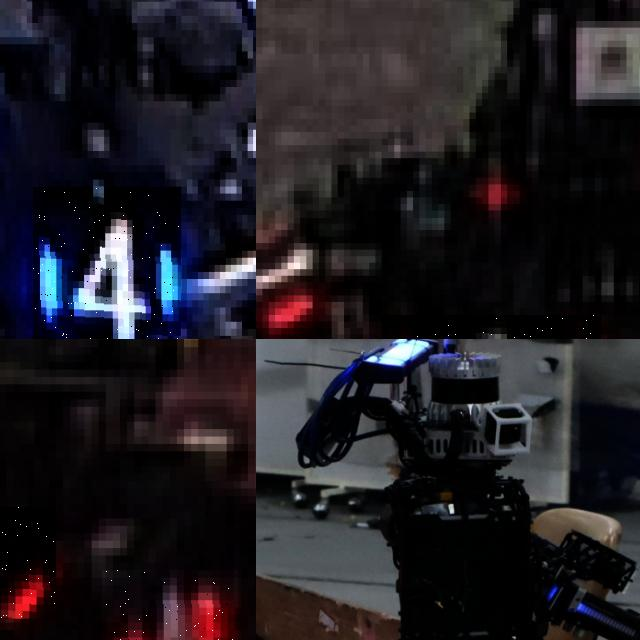B4: (32, 186, 181, 339)
R1: (381, 314, 601, 339)
R4: (102, 570, 237, 640), (0, 507, 56, 618)
